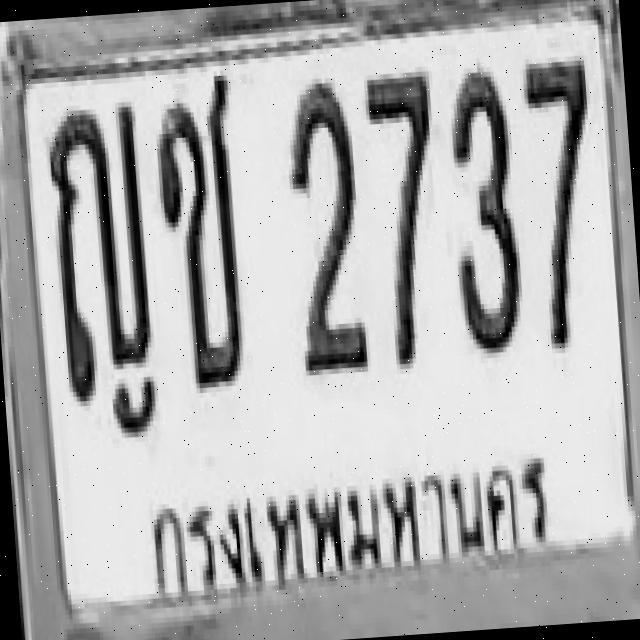19ChorChang: (148, 70, 252, 390)
2: (281, 76, 369, 376)
22YorYing: (43, 101, 157, 402)
3: (440, 68, 524, 357)
7: (362, 71, 447, 370), (522, 55, 604, 349)
Bangkok: (130, 448, 580, 618)
